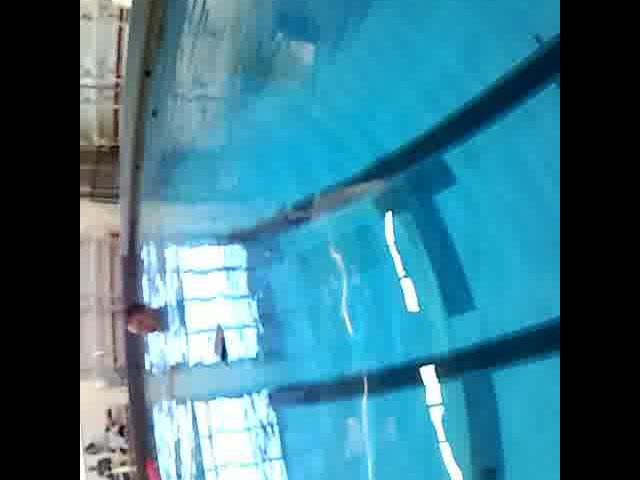CamMount: (205, 320, 238, 368)
